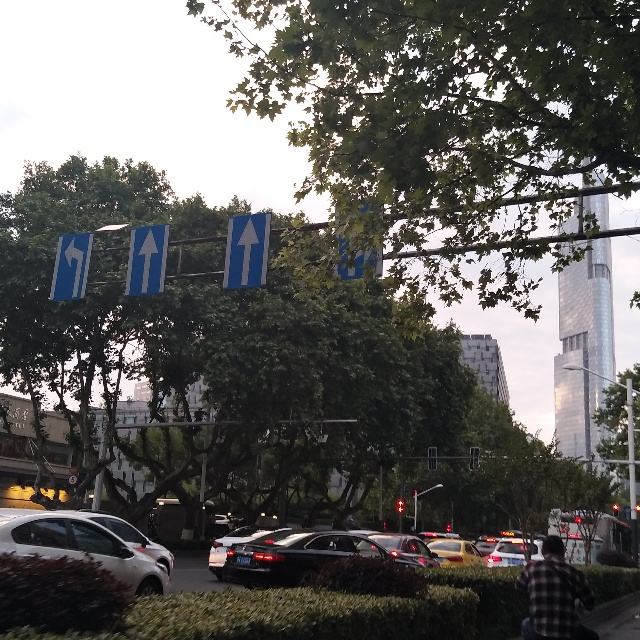left: (50, 232, 94, 301)
straight: (223, 212, 272, 289), (126, 224, 169, 296)
